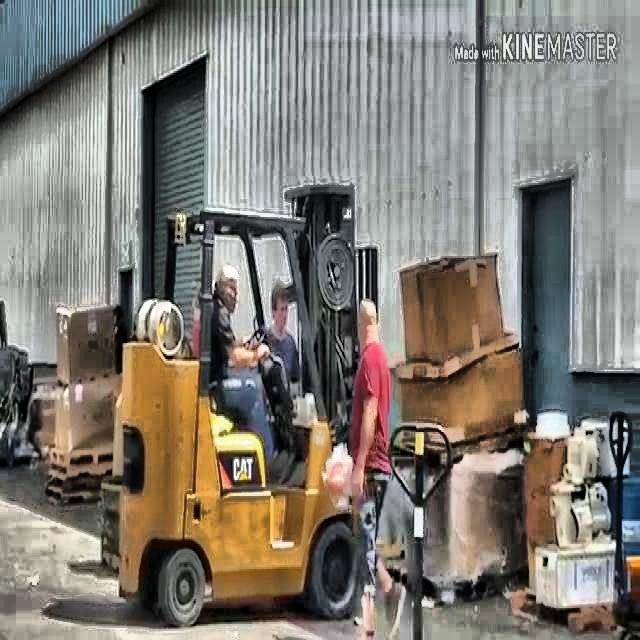bull_dozer/loader/grader: (105, 174, 376, 631)
person: (338, 290, 408, 638)
